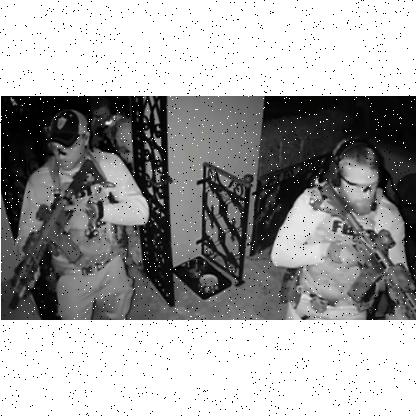gun: (314, 174, 414, 318)
